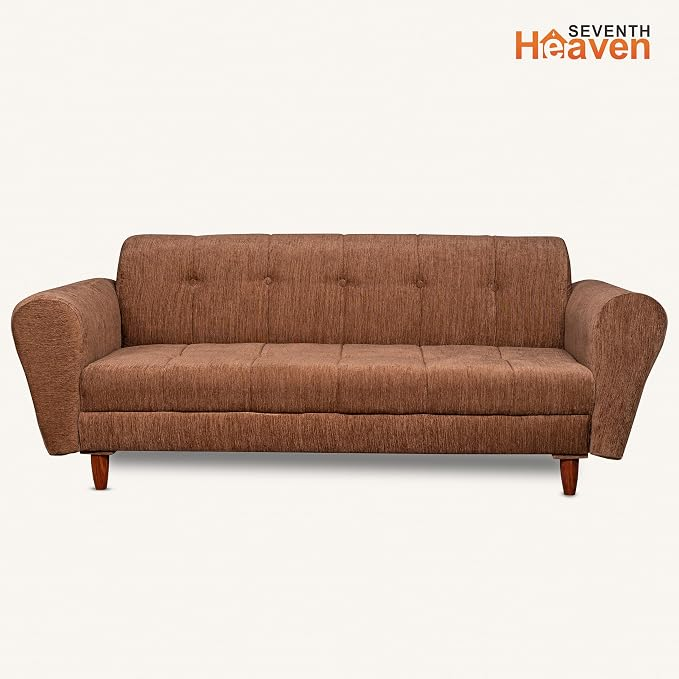3seatersofa: (12, 235, 666, 494)
backrest: (118, 233, 573, 340)
base: (90, 415, 588, 452)
leftarmrest: (563, 275, 668, 460)
leg: (553, 452, 588, 495), (90, 452, 120, 488)
rightarmrest: (12, 277, 123, 457)
seat: (87, 345, 592, 410)
